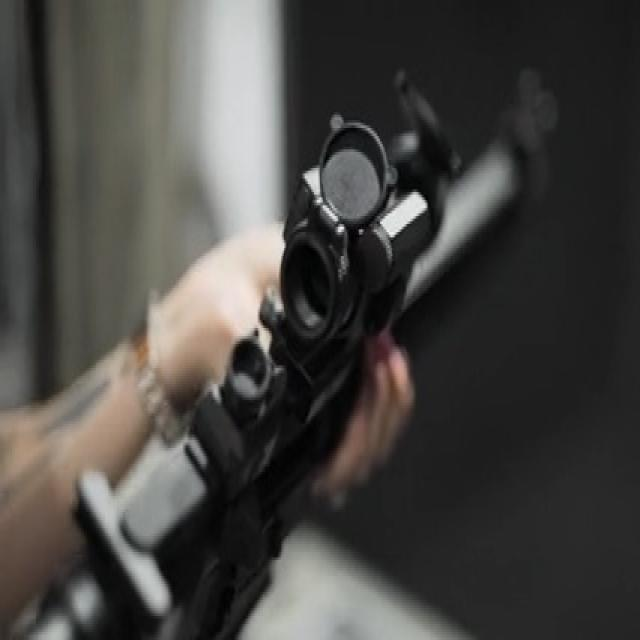Gun_Holder: (93, 96, 569, 640)
